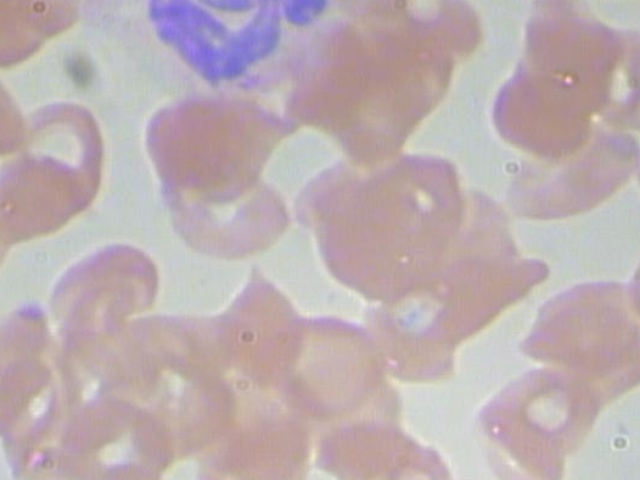RBC: (315, 171, 463, 304), (127, 90, 297, 199), (259, 299, 394, 425), (491, 113, 640, 224), (42, 234, 167, 358), (198, 264, 323, 388), (320, 49, 445, 173), (0, 95, 120, 223), (157, 160, 299, 265), (479, 353, 608, 461), (46, 385, 182, 480), (486, 55, 602, 162), (518, 0, 633, 92), (455, 393, 570, 480), (614, 229, 640, 355)
WBC: (74, 0, 421, 100)
